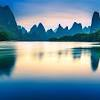lake: (1, 40, 100, 98)
mountain: (2, 14, 100, 42)
